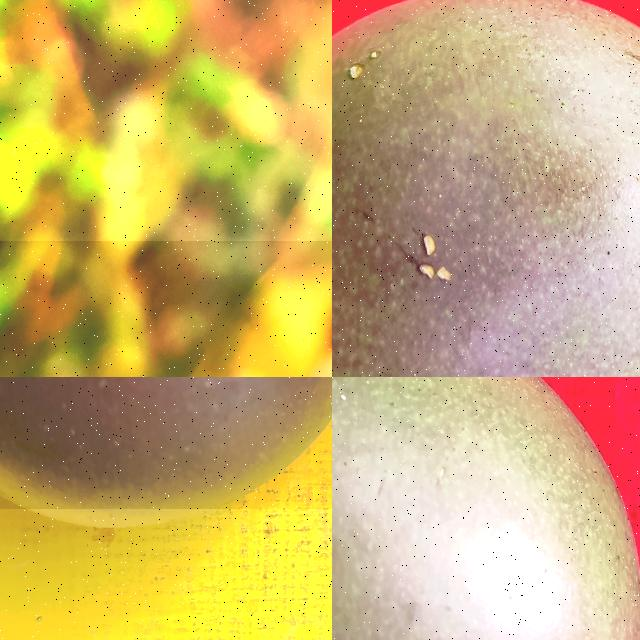Estado-2: (332, 0, 640, 377)
Estado-3: (332, 377, 640, 640)
